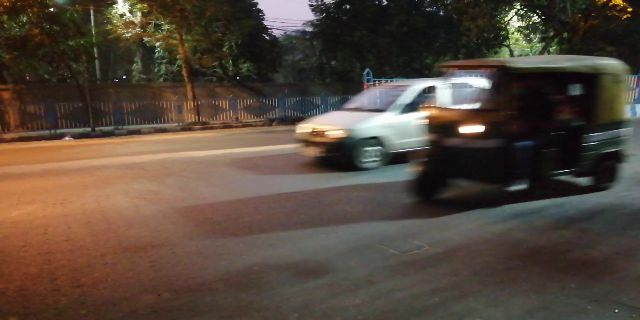Autorickshaw: (416, 56, 634, 211)
Car: (295, 80, 408, 168)
